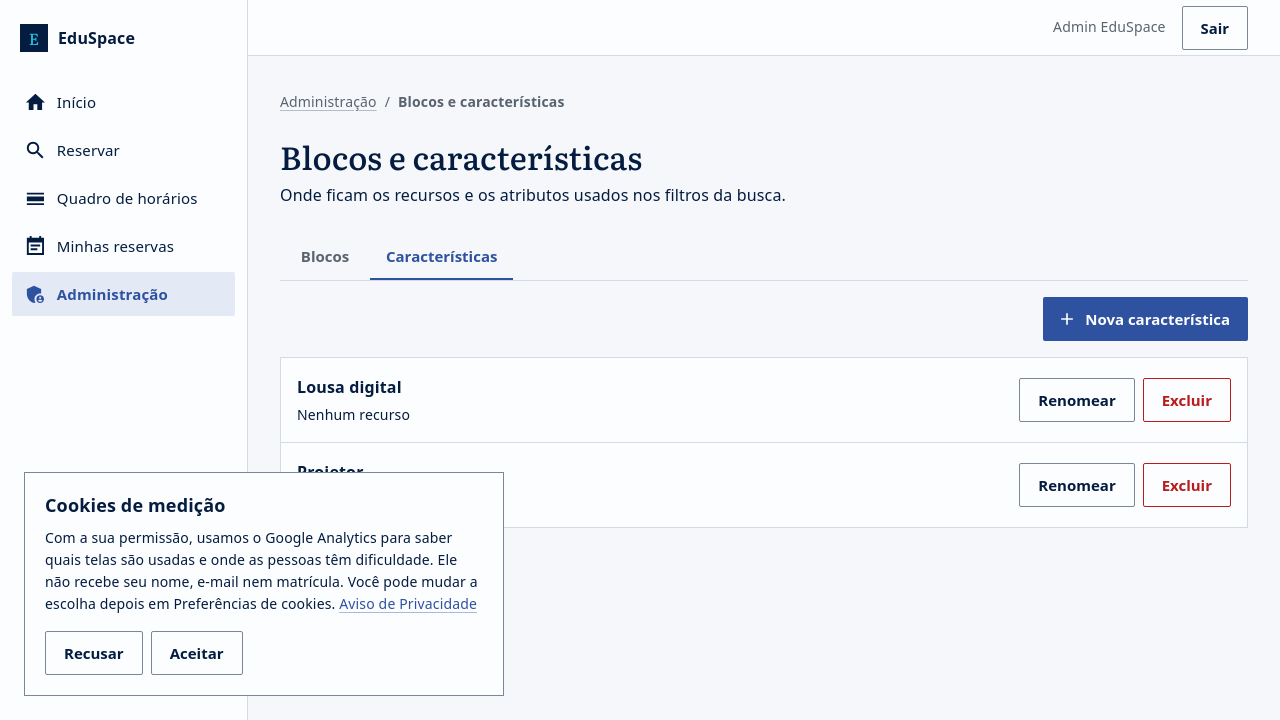
Test case: admin buildings and features › deletes a feature after showing how many resources use it
Expected: the tab "Características" is shown, [370, 232, 513, 280]
What coordinates should you click on to do the following:
click the button with aria-label "Excluir Projetor"
I would click on:
 (1187, 485)
Its box is [1143, 463, 1231, 507].
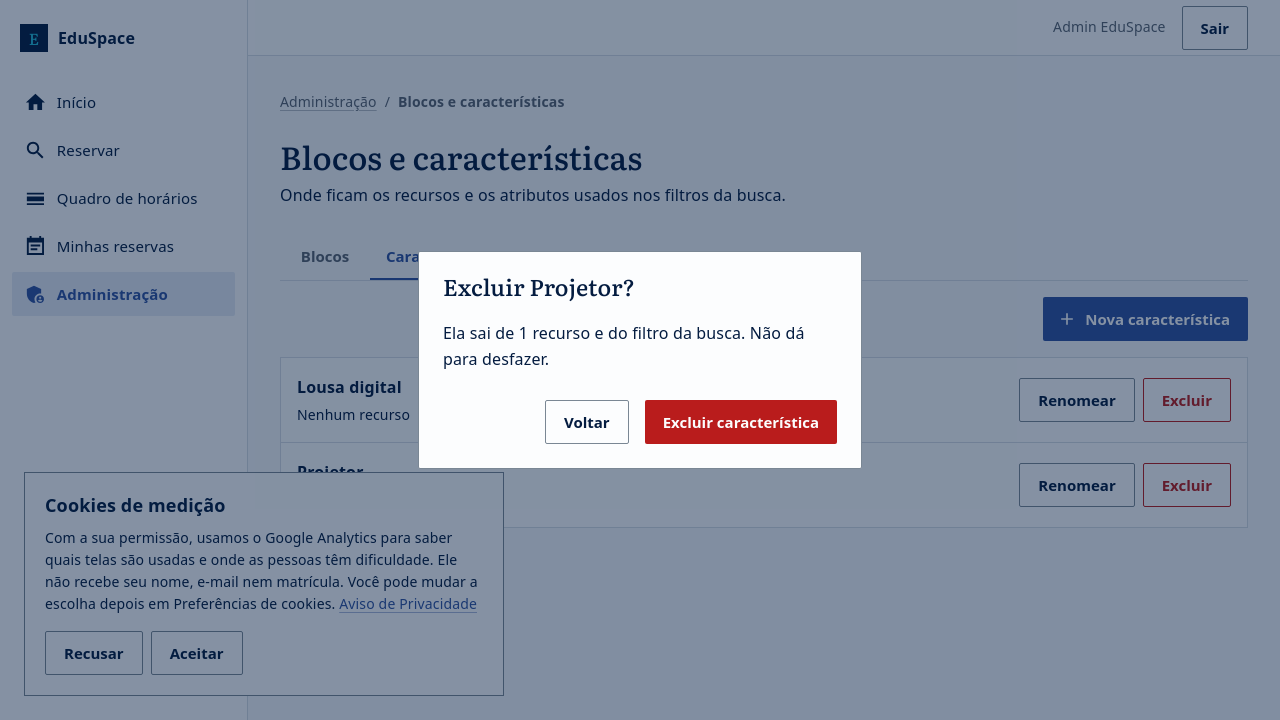
Now the dialog "Excluir Projetor?" shows "Ela sai de 1 recurso e do filtro da busca.", box [443, 322, 805, 370]
What coordinates should you click on to do the following:
click the button "Excluir característica"
I would click on:
 (741, 422)
Its box is [645, 400, 837, 444].
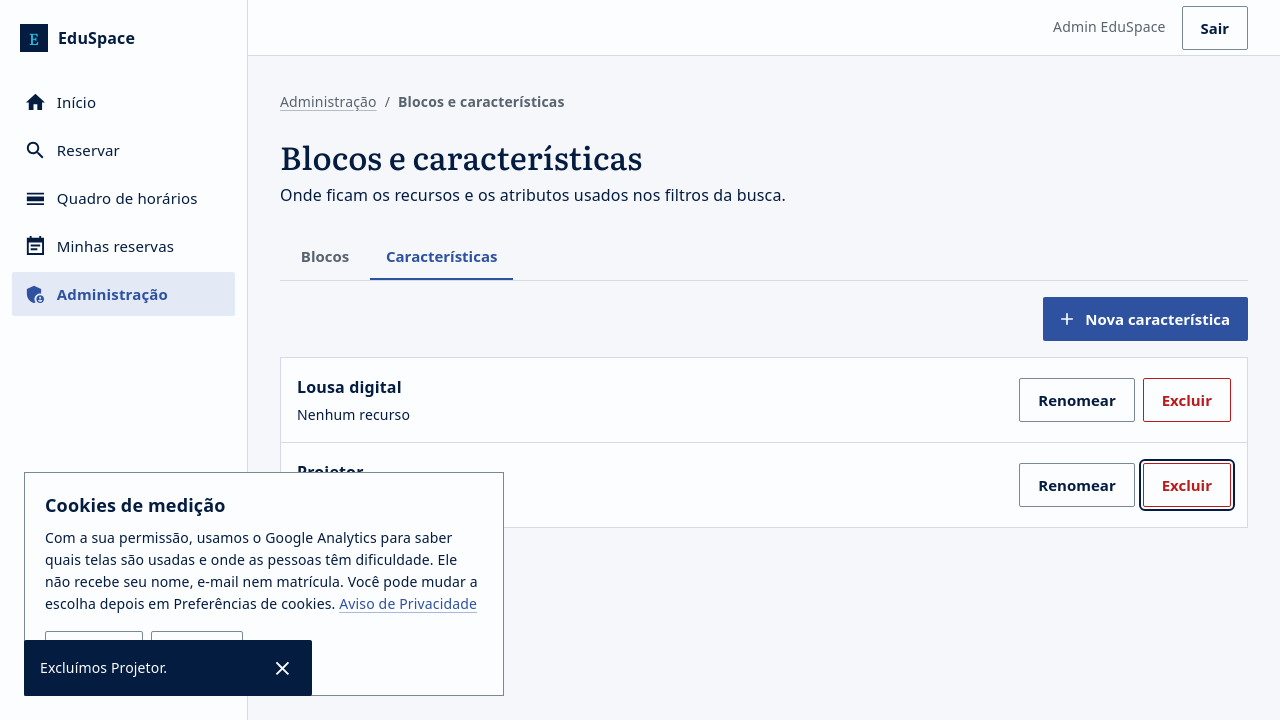
Now the message reads "Excluímos Projetor.", box [40, 658, 167, 677]
